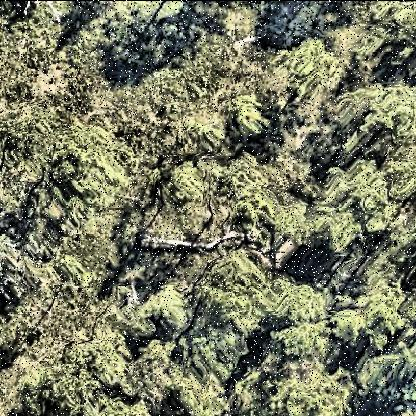tree-top: (34, 126, 120, 242), (193, 263, 331, 333), (329, 261, 408, 348), (277, 38, 345, 104), (138, 273, 194, 333)
